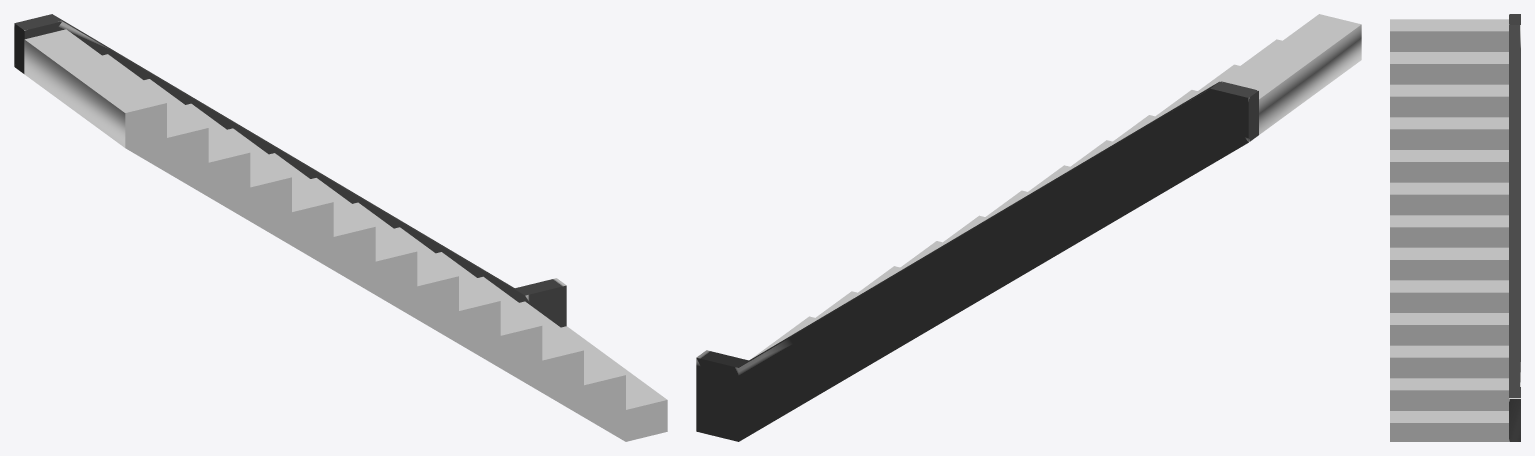
Rendered from Kinder3_Stair.fbx.
3 views of the same model, side by side, from view 1: azimuth 30°, elevation 25°; view 2: azimuth 150°, elevation 25°; view 3: azimuth 270°, elevation 25° (orthographic). The views are drawn at different scales.
Parts seen in each view (by area): view 1: Stairs_01; view 2: Stairs_01; view 3: Stairs_01.
Part boxes in pixels (left/top/right/bottom): Stairs_01: left=14, top=14, right=667, bottom=441; Stairs_01: left=696, top=14, right=1361, bottom=441; Stairs_01: left=1390, top=14, right=1520, bottom=441.
Bounding box in the file's own units: 315 × 255 × 111.
